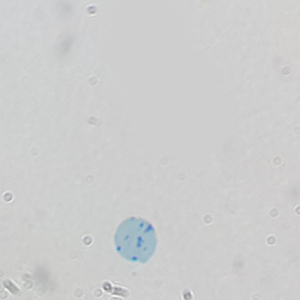aggregate reticulocyte: (112, 215, 158, 265)
